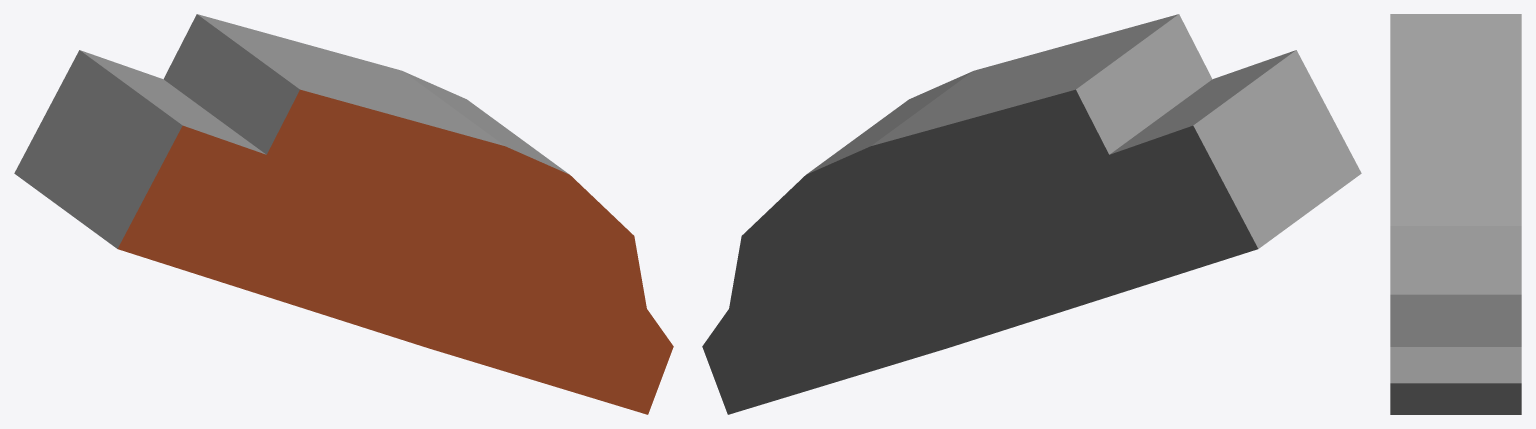
File: construction_5563_assumed_A_Casa_h6m.obj
3 views of the same model, side by side, from view 1: azimuth 30°, elevation 25°; view 2: azimuth 150°, elevation 25°; view 3: azimuth 270°, elevation 25° (orthographic). The views are drawn at different scales.
Parts seen in each view (by area): view 1: construction_5563_assumed_A_Casa; view 2: construction_5563_assumed_A_Casa; view 3: construction_5563_assumed_A_Casa.
Boxes of the visible parts, x1,y1,x2,y2 form: construction_5563_assumed_A_Casa: (14, 14, 673, 414); construction_5563_assumed_A_Casa: (702, 14, 1361, 414); construction_5563_assumed_A_Casa: (1390, 14, 1521, 414).
Size of the model in its own units: 18.66 by 13.15 by 6.
